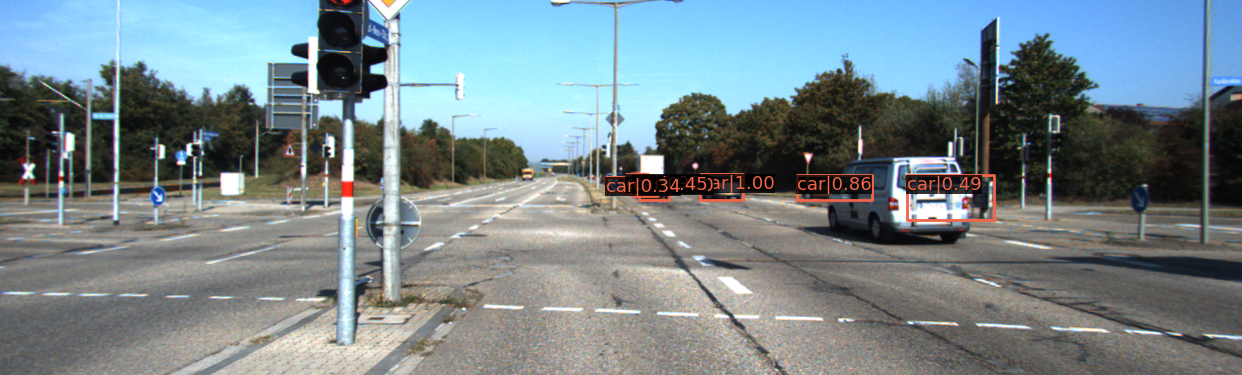car: (800, 175, 866, 202), (701, 176, 742, 202), (639, 177, 669, 200), (626, 173, 650, 195)
